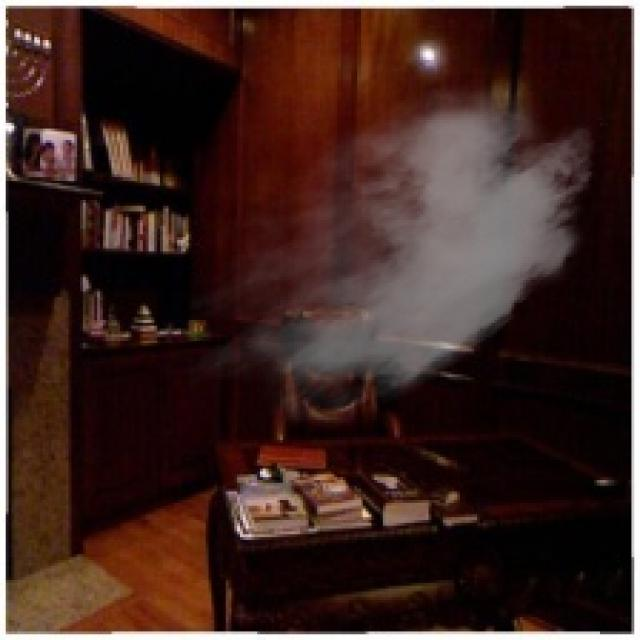smoke: (188, 69, 608, 432)
